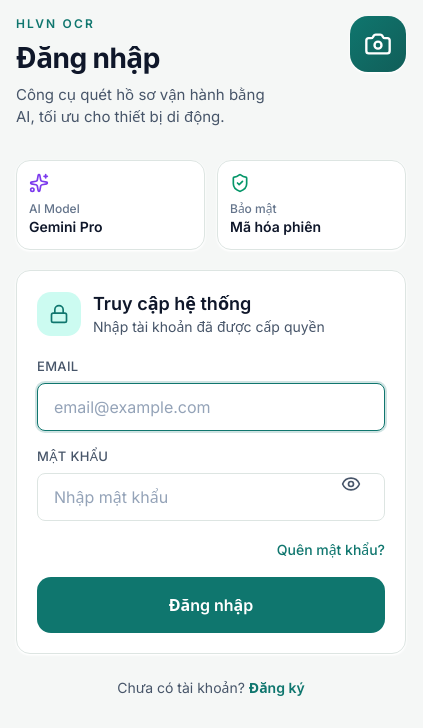
LoginPage › shows validation errors for empty form
This screenshot has width=423, height=728.
What coordinates should you click on to do the following:
click the button "Đăng nhập"
I would click on:
 (211, 605)
Its box is [37, 577, 385, 633].
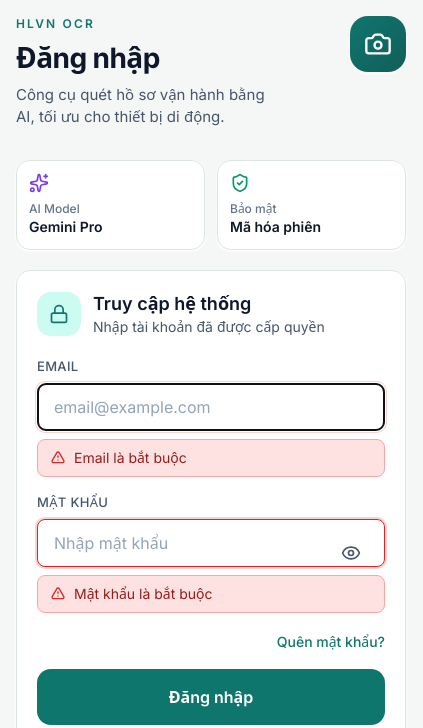
Now the text "Email là bắt buộc" is shown, box [74, 448, 187, 468]
Now the text "Mật khẩu là bắt buộc" is shown, box [74, 584, 212, 604]
